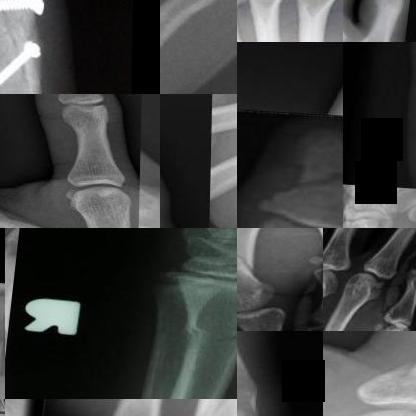fracture: (0, 0, 56, 94), (284, 143, 342, 212), (167, 305, 236, 358), (237, 228, 287, 290), (392, 352, 415, 410), (192, 399, 236, 415)
